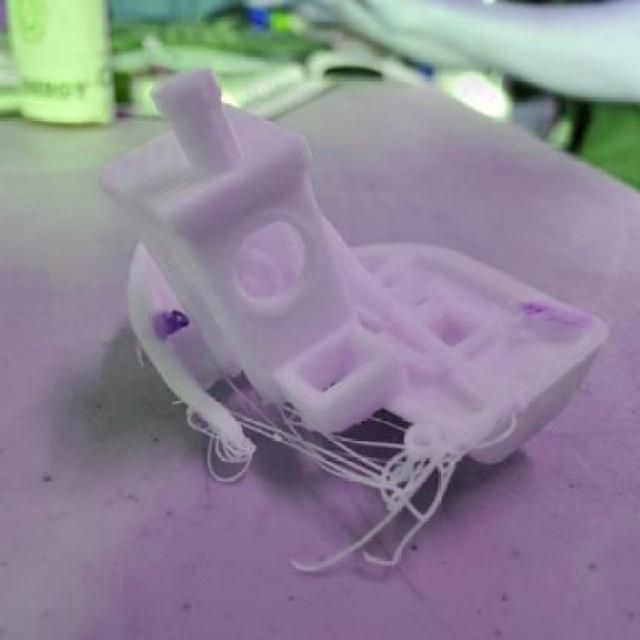Spaghetti: (167, 342, 470, 578)
